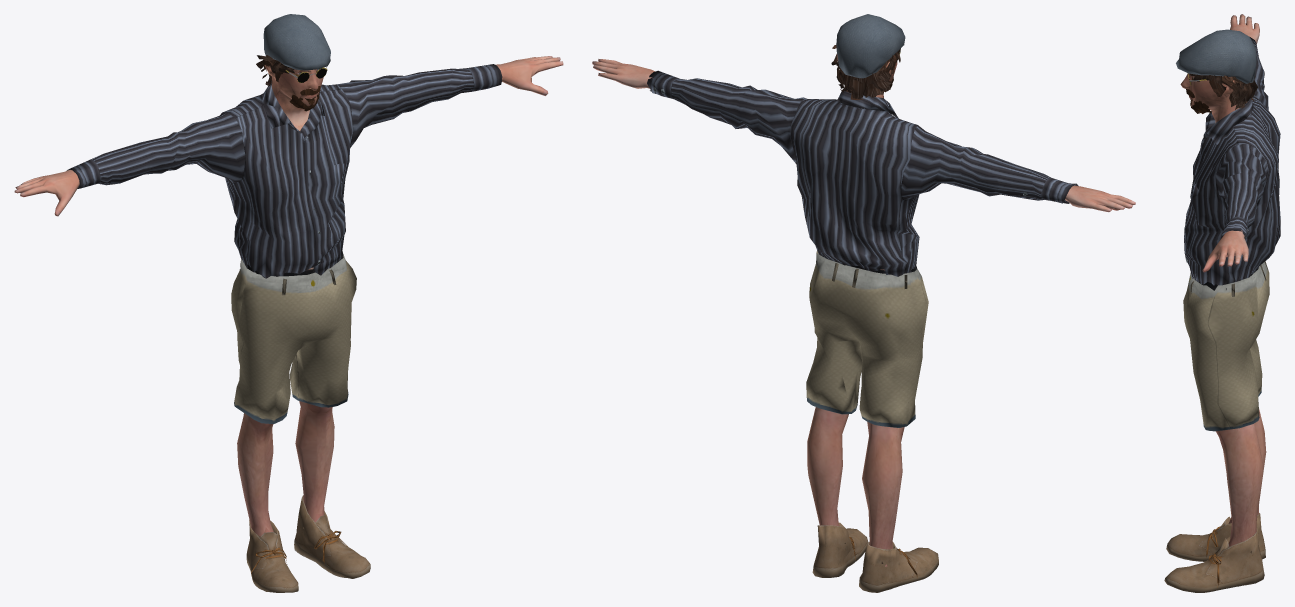
The model's file is Daddy 5000 2 test.fbx.
3 renders of one model, left to right at view 1: azimuth 30°, elevation 25°; view 2: azimuth 150°, elevation 25°; view 3: azimuth 270°, elevation 25°, orthographic. The views are drawn at different scales.
Visible parts, largest first — view 1: Daddy; view 2: Daddy; view 3: Daddy.
Part boxes in pixels (x1=…): Daddy: x1=14, y1=14, x2=563, y2=592; Daddy: x1=592, y1=14, x2=1135, y2=592; Daddy: x1=1164, y1=14, x2=1280, y2=592.
Bounding box in the file's own units: 19314 × 18856 × 3697.
Materials: 1 (1 with a texture image).
